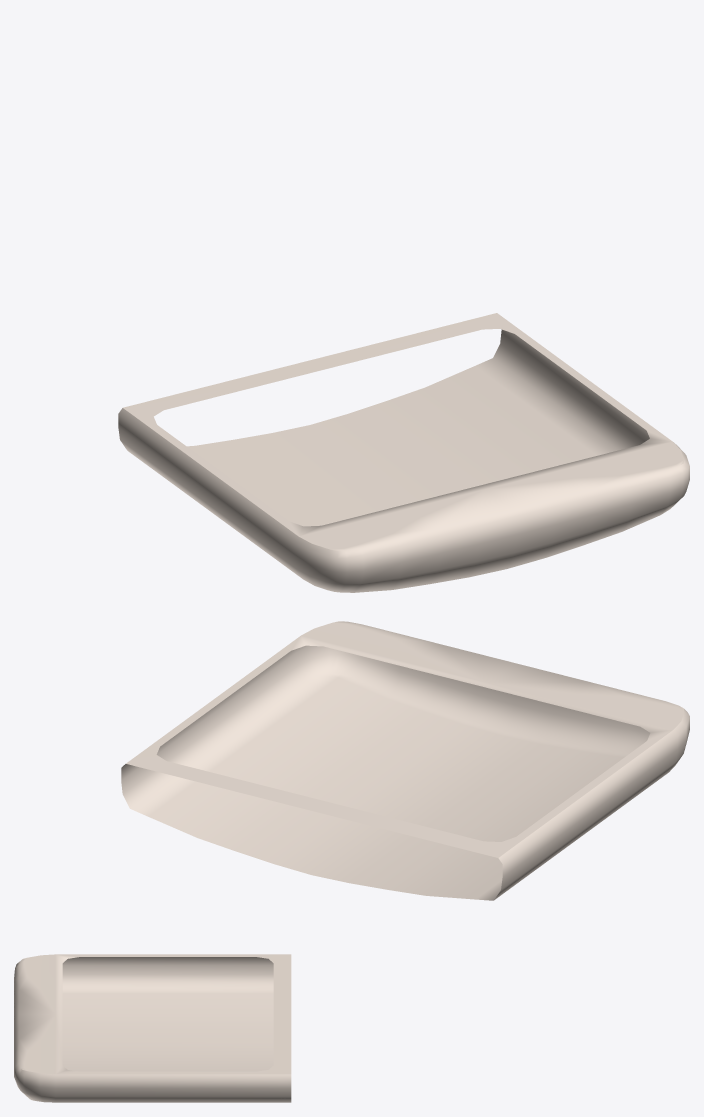
The model's file is MeshFridgeFreezerdoorA5_1_GeomSubset_0.obj.
The picture shows the model from 3 angles, top to bottom: view 1: azimuth 30°, elevation 25°; view 2: azimuth 150°, elevation 25°; view 3: azimuth 270°, elevation 25°; orthographic projection. The views are drawn at different scales.
Parts seen in each view (by area): view 1: MeshFridgeFreezerdoorA5_1_GeomSubset_0; view 2: MeshFridgeFreezerdoorA5_1_GeomSubset_0; view 3: MeshFridgeFreezerdoorA5_1_GeomSubset_0.
Part boxes in pixels (x1,y1,x2,y2): MeshFridgeFreezerdoorA5_1_GeomSubset_0: (118, 313, 689, 592); MeshFridgeFreezerdoorA5_1_GeomSubset_0: (121, 621, 689, 900); MeshFridgeFreezerdoorA5_1_GeomSubset_0: (14, 954, 291, 1102).
Bounding box in the file's own units: 0.8161 × 0.3917 × 1.86.
